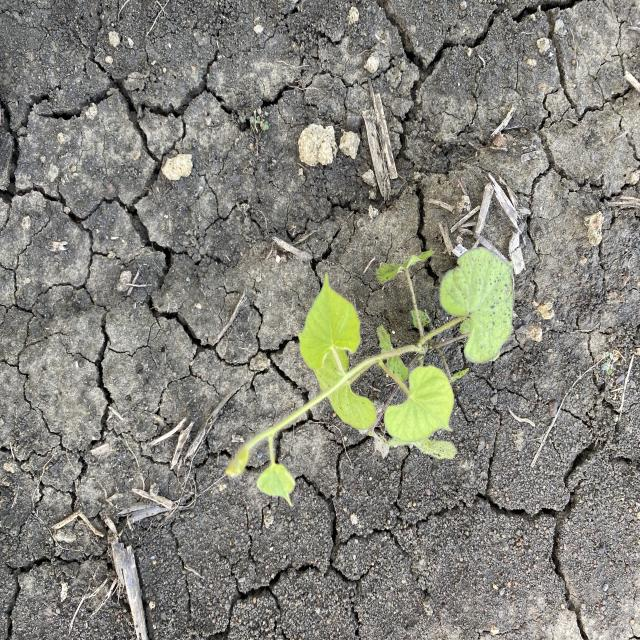MorningGlory: (224, 246, 516, 510)
SpottedSpurge: (250, 114, 269, 132)
